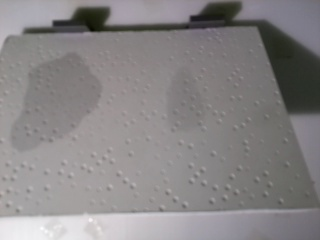Water_detected: (43, 75, 94, 136), (179, 78, 219, 130)
